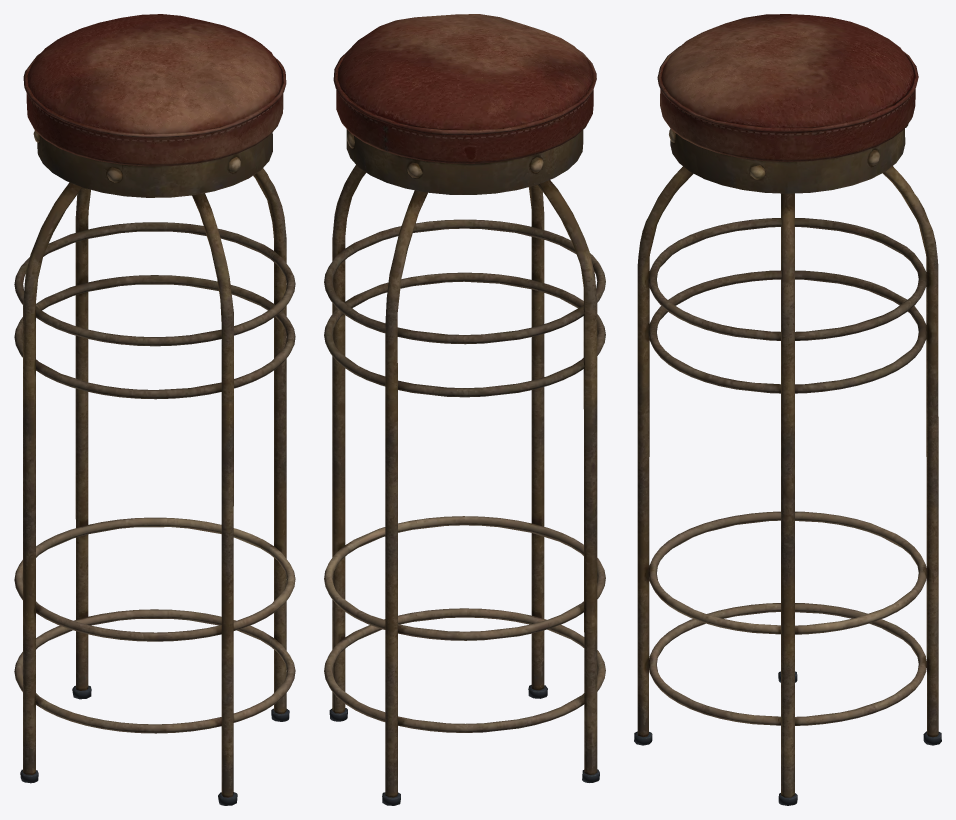
The model's file is metal_stool_01.glb.
The picture shows the model from 3 angles, left to right: view 1: azimuth 30°, elevation 25°; view 2: azimuth 150°, elevation 25°; view 3: azimuth 270°, elevation 25°; orthographic projection.
Visible parts, largest first — view 1: metal_stool_01; view 2: metal_stool_01; view 3: metal_stool_01.
Boxes of the visible parts, x1,y1,x2,y2 form: metal_stool_01: (14,14,295,805); metal_stool_01: (324,14,605,805); metal_stool_01: (634,14,941,805).
Size of the model in its own units: 0.351 by 0.8824 by 0.3538.
1 material, 1 textured.
